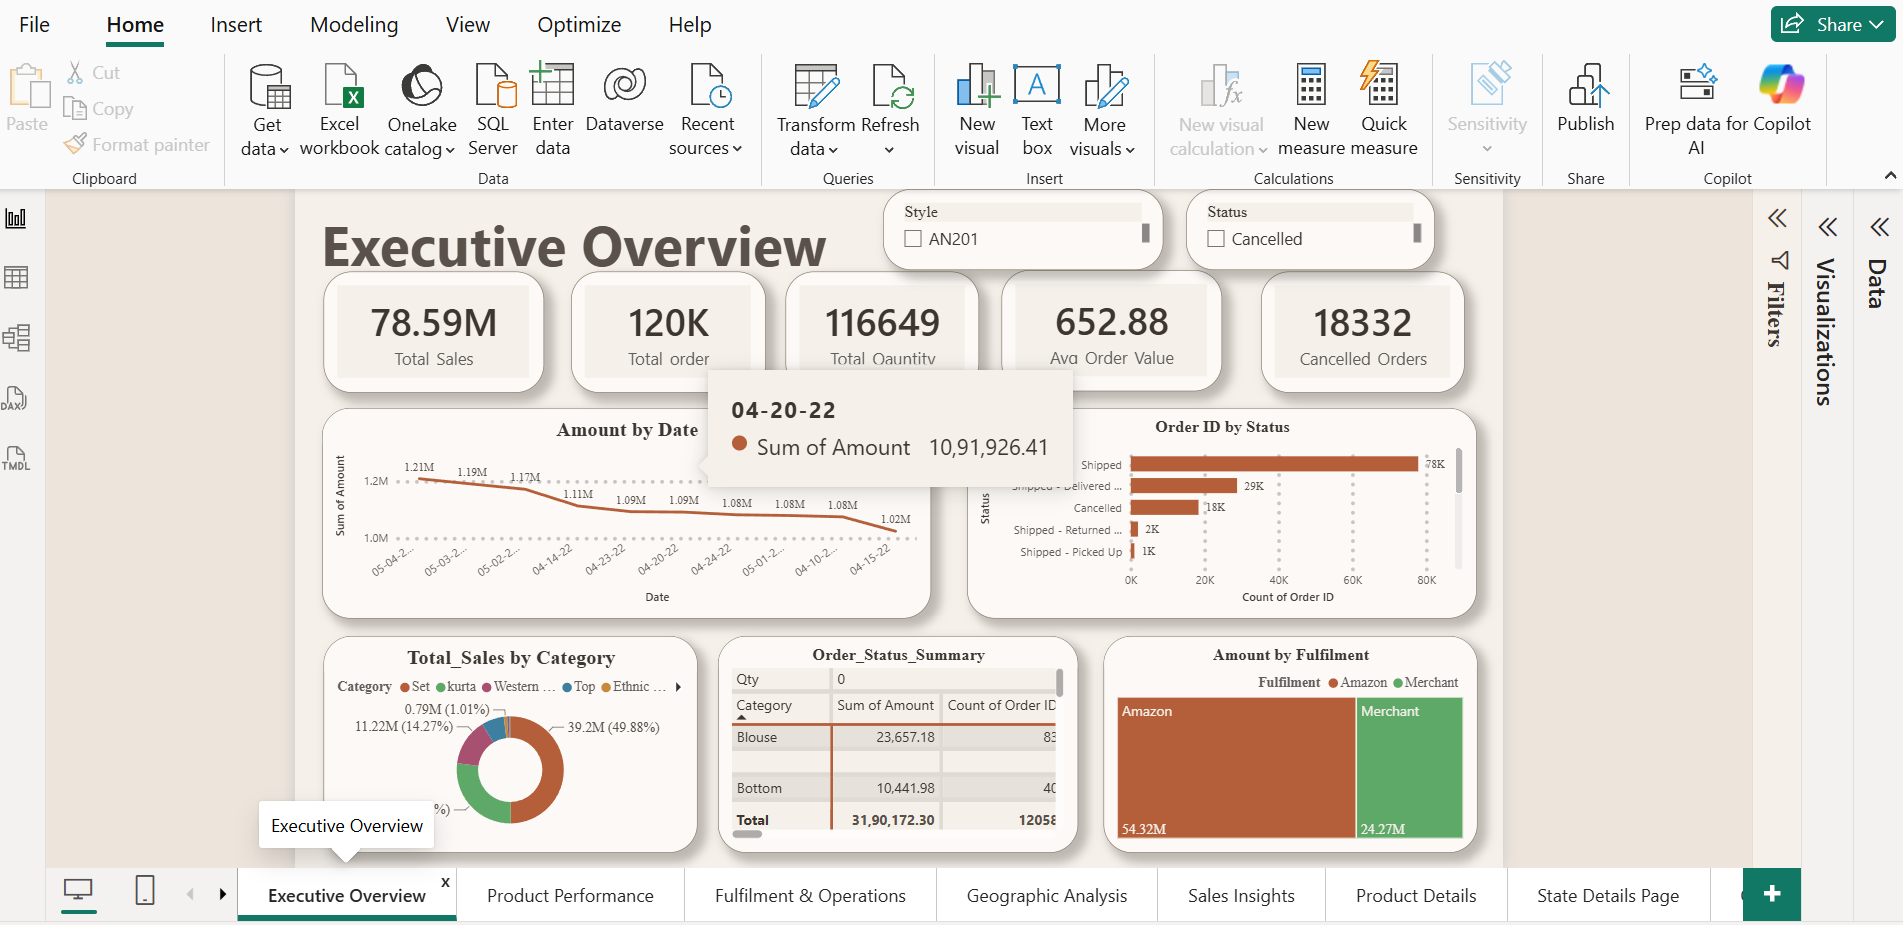

What the dashboard file says about the page in this screenshot:
{"tool":"powerbi","page":{"name":"Executive Overview","canvas":[1280,720],"ordinal":0},"visuals":[{"type":"textbox","box":[22.7,13.2,565,88.8],"z":0},{"type":"cardVisual","fields":{"Data":["amazon_sales_cleaned.Total_Sales"]},"box":[30.2,87.5,233.8,128.8],"z":1000},{"type":"cardVisual","fields":{"Data":["amazon_sales_cleaned.Total_order"]},"box":[292.7,87.5,206.8,128.8],"z":2000},{"type":"cardVisual","fields":{"Data":["amazon_sales_cleaned.Total_Qauntity"]},"box":[520.1,87.5,205.2,127.2],"z":3000},{"type":"cardVisual","fields":{"Data":["amazon_sales_cleaned.Average Order Value"]},"box":[749.2,85.9,233.8,128.8],"z":4000},{"type":"cardVisual","fields":{"Data":["amazon_sales_cleaned.Cancelled_Orders"]},"box":[1024.4,87.5,216.3,128.8],"z":5000},{"type":"lineChart","title":"Amount by Date","fields":{"Category":["amazon_sales_cleaned.Date"],"Y":["Sum(amazon_sales_cleaned.Amount)"]},"box":[29.1,231.5,646.1,223.5],"z":6000},{"type":"donutChart","fields":{"Category":["amazon_sales_cleaned.Category"],"Y":["amazon_sales_cleaned.Total_Sales"]},"box":[30.8,474.4,396.7,229.9],"z":7000},{"type":"barChart","title":" Order ID by Status","fields":{"Y":["CountNonNull(amazon_sales_cleaned.Order ID)"],"Category":["amazon_sales_cleaned.Status"]},"box":[712.5,231.5,540.8,223.5],"z":8000},{"type":"pivotTable","title":"Order_Status_Summary","fields":{"Rows":["amazon_sales_cleaned.Category"],"Columns":["amazon_sales_cleaned.Qty"],"Values":["Sum(amazon_sales_cleaned.Amount)","Count(amazon_sales_cleaned.Order ID)"]},"box":[448.5,474.4,382.1,229.9],"z":9000},{"type":"treemap","title":" Amount by Fulfilment","fields":{"Group":["amazon_sales_cleaned.Fulfilment"],"Values":["Sum(amazon_sales_cleaned.Amount)"]},"box":[856.6,474.4,396.7,229.9],"z":10000},{"type":"slicer","fields":{"Values":["amazon_sales_cleaned.Style"]},"box":[623.5,0,297.4,87.5],"z":11000},{"type":"slicer","fields":{"Values":["amazon_sales_cleaned.Status"]},"box":[944.8,0,264,85.9],"z":12000}]}

Visuals, with their boxes on the page's 1280x720 design canvas (x1, y1, x2, y2). These are canvas units, not pixel positions in the 1903x925 screenshot, which may show the page scaled, cropped or inside an application window:
textbox: 23:13:588:102
cardVisual - amazon_sales_cleaned.Total_Sales: 30:88:264:216
cardVisual - amazon_sales_cleaned.Total_order: 293:88:500:216
cardVisual - amazon_sales_cleaned.Total_Qauntity: 520:88:725:215
cardVisual - amazon_sales_cleaned.Average Order Value: 749:86:983:215
cardVisual - amazon_sales_cleaned.Cancelled_Orders: 1024:88:1241:216
"Amount by Date" lineChart: 29:232:675:455
donutChart - amazon_sales_cleaned.Category x amazon_sales_cleaned.Total_Sales: 31:474:428:704
" Order ID by Status" barChart: 712:232:1253:455
"Order_Status_Summary" pivotTable: 448:474:831:704
" Amount by Fulfilment" treemap: 857:474:1253:704
slicer - amazon_sales_cleaned.Style: 624:0:921:88
slicer - amazon_sales_cleaned.Status: 945:0:1209:86
